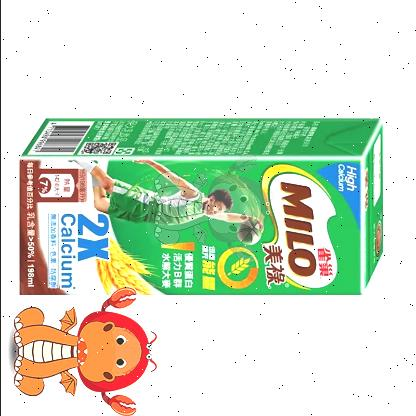Others: (20, 118, 382, 295)
